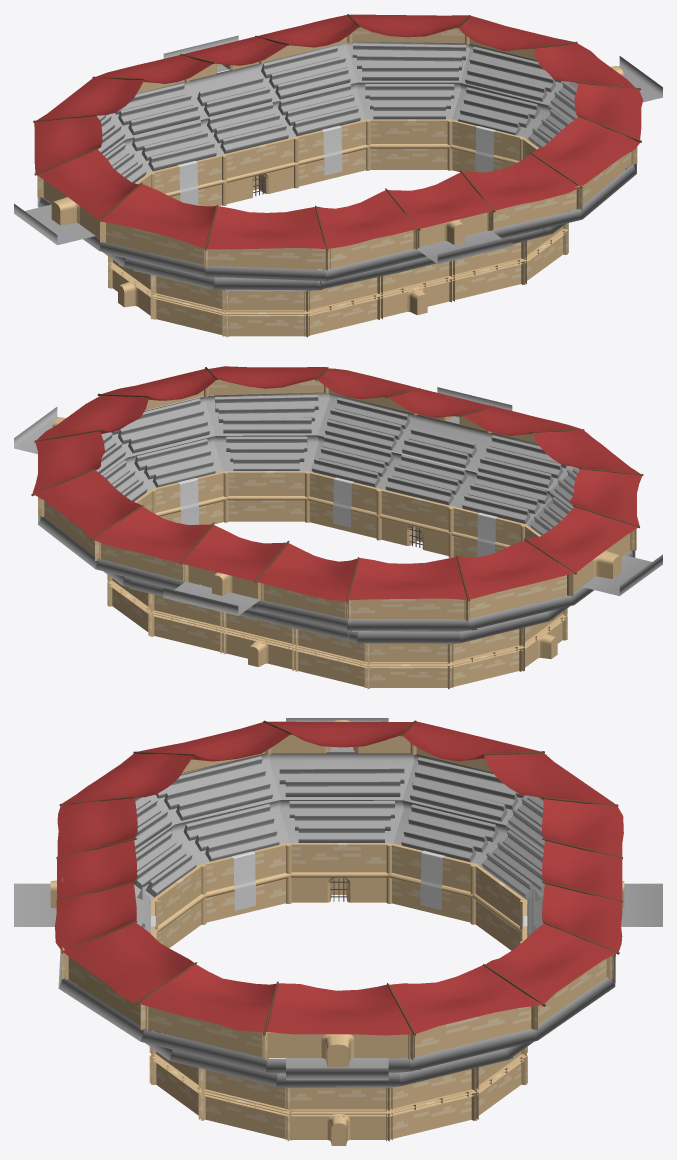
The model's file is Model_arena.fbx.
3 views of the same model, one above another, from view 1: azimuth 30°, elevation 25°; view 2: azimuth 150°, elevation 25°; view 3: azimuth 270°, elevation 25° (orthographic). The views are drawn at different scales.
Parts seen in each view (by area): view 1: Model_Arena_Bank33, pPlane14, pPlane15, pPlane11, Model_Arena_Muur5 (×2), Model_Arena_Muur12 (×2), pPlane8, pPlane12, pPlane13, Roof_sunscreens1, Model_Arena_Muur3 (×2), Model_Arena_Muur11 (×2) (+77 smaller); view 2: Model_Arena_Bank35, Model_Arena_Bank55, Model_Arena_Bank56, Model_Arena_Bank34, Model_Arena_Bank57, pPlane4, pPlane7, Model_Arena_Muur10 (×2), pPlane5, pPlane8, Model_Arena_Muur7 (×2), pPlane2 (+57 smaller); view 3: Model_Arena_Bank30, Model_Arena_Bank53, Model_Arena_Bank31, pPlane9, pPlane6, pPlane11, pPlane10, pPlane5, Model_Arena_Muur6 (×2), Model_Arena_Muur9 (×2), Model_Arena_Bank29, Model_Arena_Muur_Boog7 (+48 smaller).
Part boxes in pixels (x1,y1,x2,y2): Model_Arena_Bank33: (458, 46, 562, 135); pPlane14: (205, 206, 325, 249); pPlane15: (99, 184, 215, 248); pPlane11: (532, 117, 639, 185); Model_Arena_Muur5 (×2): (366, 119, 451, 169); Model_Arena_Muur12 (×2): (222, 290, 308, 336); pPlane8: (36, 149, 138, 219); pPlane12: (463, 154, 580, 210); pPlane13: (316, 190, 418, 248); Roof_sunscreens1: (388, 172, 493, 228); Model_Arena_Muur3 (×2): (306, 276, 382, 337); Model_Arena_Muur11 (×2): (151, 275, 227, 337); Model_Arena_Bank35: (215, 395, 318, 470); Model_Arena_Bank55: (462, 435, 567, 523); Model_Arena_Bank56: (312, 397, 410, 487); Model_Arena_Bank34: (111, 398, 215, 487); Model_Arena_Bank57: (385, 428, 476, 505); pPlane4: (348, 557, 467, 600); pPlane7: (458, 540, 574, 599); Model_Arena_Muur10 (×2): (223, 471, 309, 521); pPlane5: (33, 470, 140, 538); pPlane8: (527, 507, 638, 572); Model_Arena_Muur7 (×2): (365, 644, 451, 687); pPlane2: (93, 506, 211, 562); Model_Arena_Bank30: (401, 757, 525, 862); Model_Arena_Bank53: (156, 756, 279, 861); Model_Arena_Bank31: (279, 766, 404, 842); pPlane9: (266, 983, 412, 1035); pPlane6: (389, 965, 543, 1033); pPlane11: (62, 922, 193, 1003); pPlane10: (138, 964, 276, 1032); pPlane5: (485, 923, 617, 1003); Model_Arena_Muur6 (×2): (387, 1067, 478, 1141); Model_Arena_Muur9 (×2): (199, 1068, 289, 1141); Model_Arena_Bank29: (482, 796, 544, 899); Model_Arena_Muur_Boog7: (263, 1032, 410, 1067).
Bounding box in the file's own units: 50.48 × 10.98 × 39.55.
5 materials, 1 textured.
